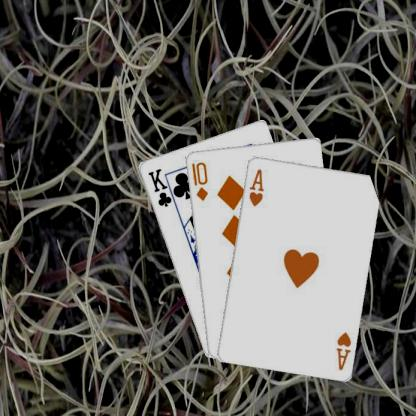10D: (188, 159, 209, 201)
AH: (332, 329, 352, 371), (246, 166, 265, 207)
KC: (145, 166, 179, 209)
